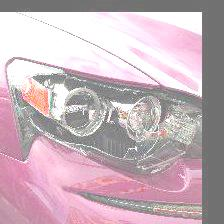head_lamp: (3, 61, 188, 158)
